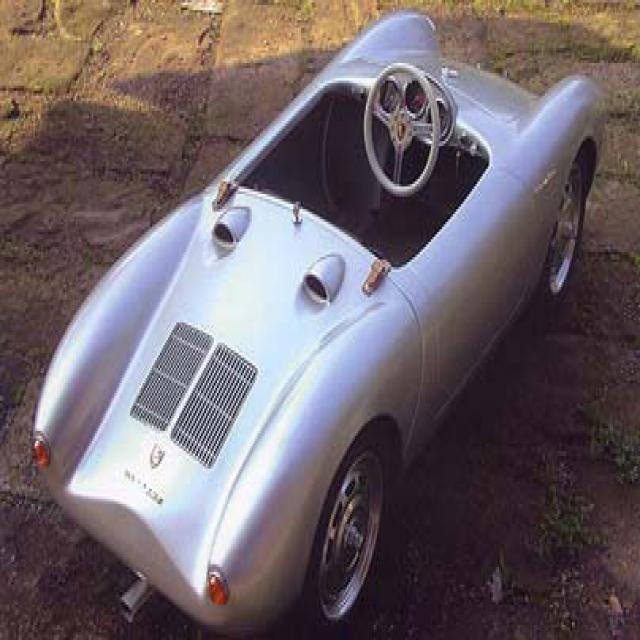Car: (28, 0, 609, 640)
